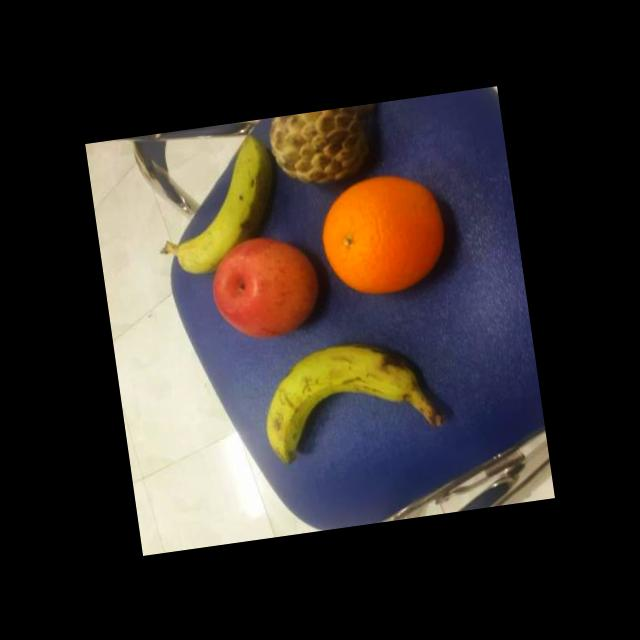Sakya fruit: (265, 102, 384, 192)
apple: (205, 231, 326, 344)
banana: (252, 330, 425, 468), (159, 131, 285, 279)
orange: (314, 166, 456, 302)
